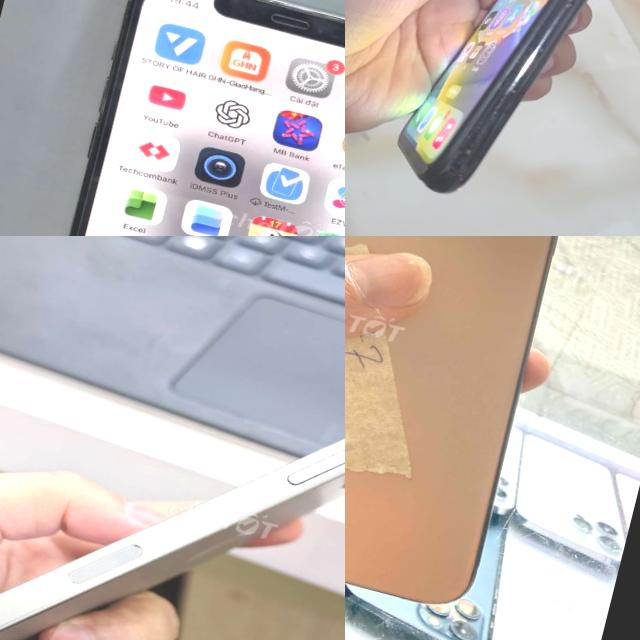scratch: (447, 110, 507, 178), (481, 70, 531, 124), (551, 0, 594, 25)
